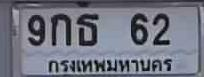2: (152, 12, 169, 44)
6: (130, 12, 147, 44)
9: (27, 14, 44, 45)
A01: (50, 13, 70, 46)
A24: (76, 13, 98, 45)
BKK: (47, 57, 174, 74)
